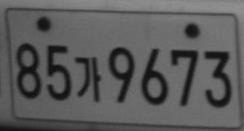3: (203, 50, 232, 108)
5: (46, 44, 71, 101)
6: (140, 47, 168, 105)
7: (170, 48, 199, 106)
8: (15, 42, 42, 99)
9: (107, 46, 134, 102)
가: (74, 55, 101, 101)
